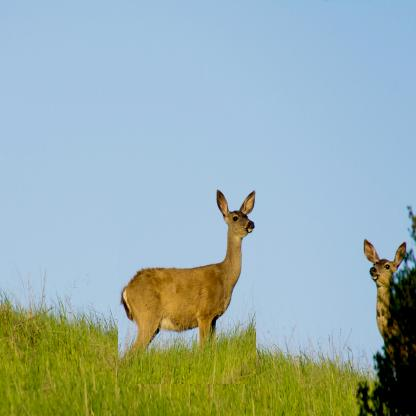Deer: (118, 188, 256, 384)
